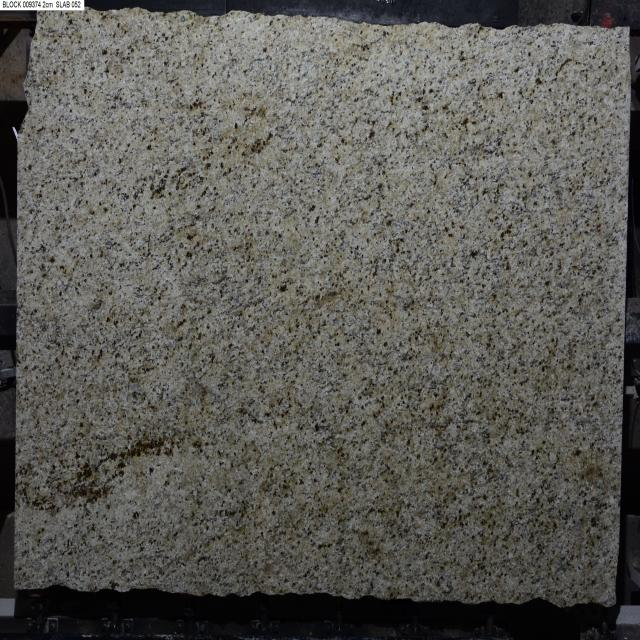chapa: (15, 9, 630, 606)
